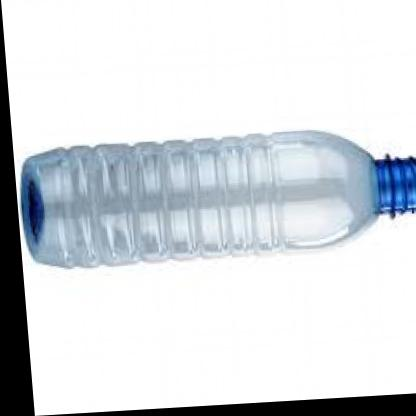Plastic: (7, 82, 416, 304)
